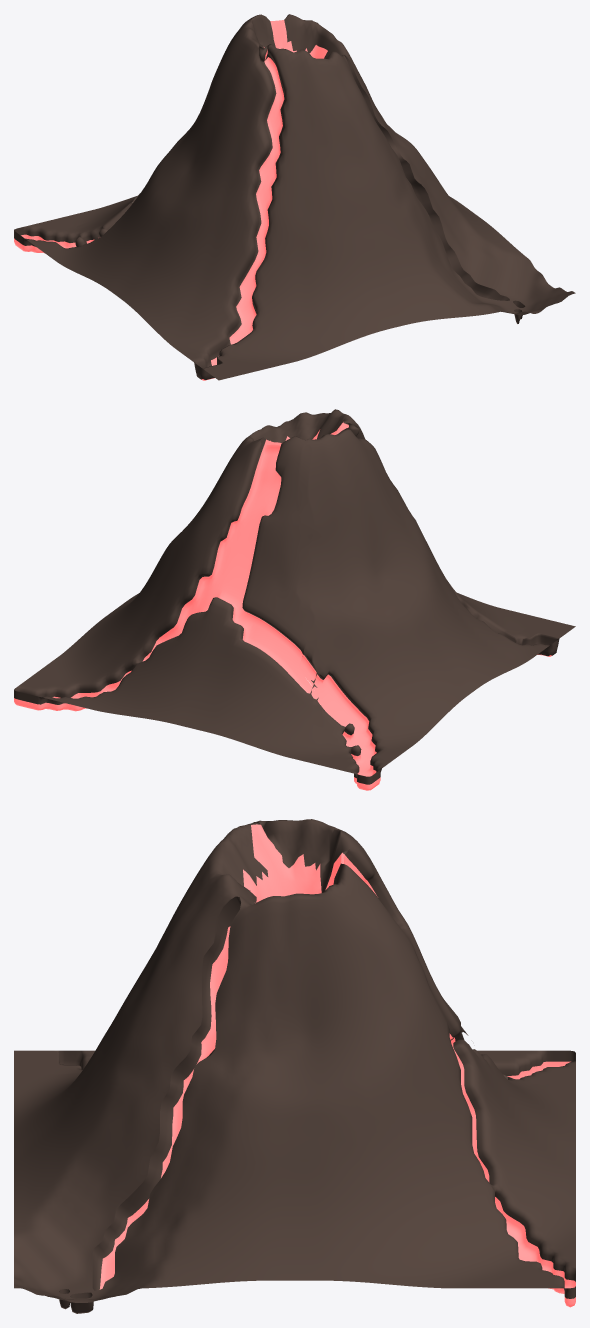
File: Volcano_Lowpoly.fbx
3 renders of one model, top to bottom at view 1: azimuth 30°, elevation 25°; view 2: azimuth 150°, elevation 25°; view 3: azimuth 270°, elevation 25°, orthographic. The views are drawn at different scales.
Visible parts, largest first — view 1: pasted__pPlane1; view 2: pasted__pPlane1; view 3: pasted__pPlane1.
Part boxes in pixels (x1,y1,x2,y2): pasted__pPlane1: (14, 14, 575, 380); pasted__pPlane1: (14, 409, 575, 790); pasted__pPlane1: (14, 819, 575, 1313).
Size of the model in its own units: 147 by 108 by 147.
